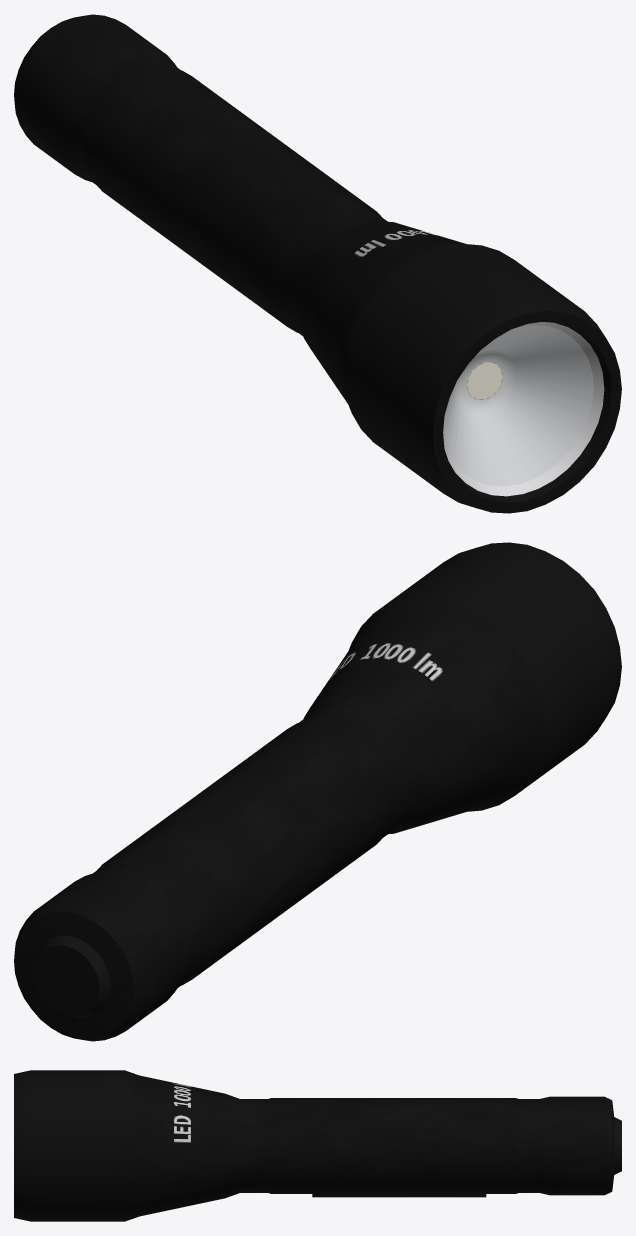
The model's file is TacticalFlashlight.obj.
3 views of the same model, one above another, from view 1: azimuth 30°, elevation 25°; view 2: azimuth 150°, elevation 25°; view 3: azimuth 270°, elevation 25° (orthographic). The views are drawn at different scales.
Parts seen in each view (by area): view 1: TorchBody, TorchReflector, TorchLens, TorchEmitter; view 2: TorchBody; view 3: TorchBody.
Part boxes in pixels (bbox=[...]): TorchBody: bbox=[14, 14, 621, 513]; TorchReflector: bbox=[443, 322, 604, 496]; TorchLens: bbox=[444, 325, 593, 486]; TorchEmitter: bbox=[467, 362, 502, 399]; TorchBody: bbox=[14, 542, 621, 1041]; TorchBody: bbox=[14, 1070, 621, 1221].
Size of the model in its own units: 0.0392 by 0.0392 by 0.157.
4 materials, 1 textured.
